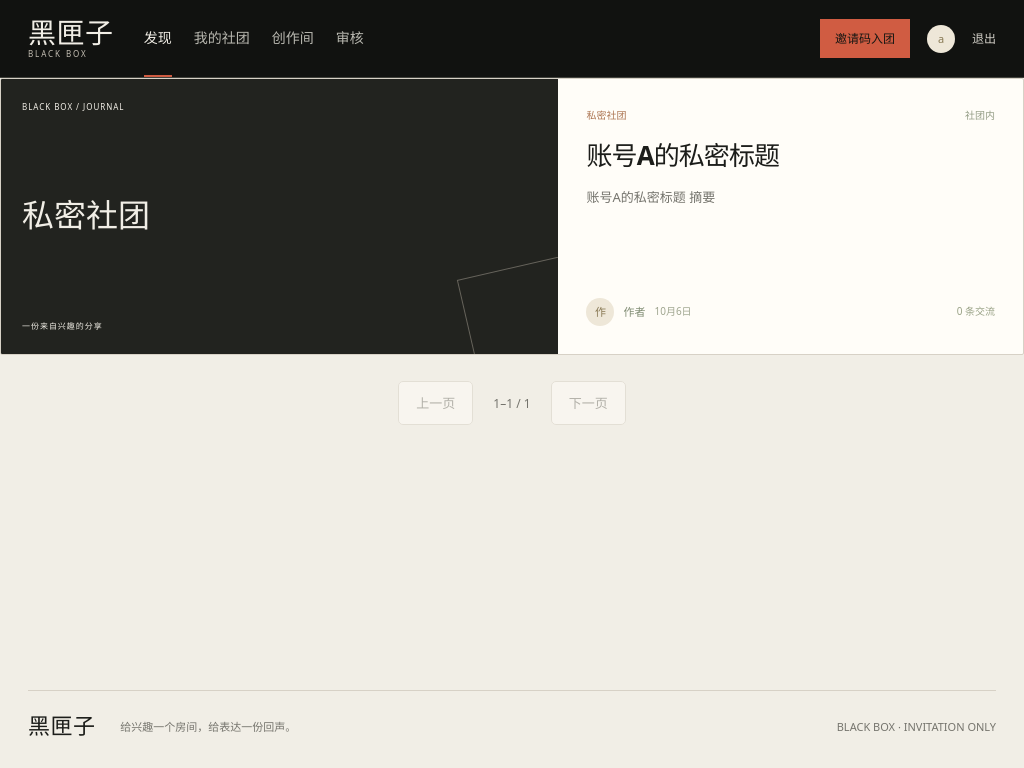
Scenario: logout on the homepage clears previously authorized titles and fetches an anonymous feed
Click the button "退出": (984, 38) top-left (972, 23), bottom-right (996, 54)
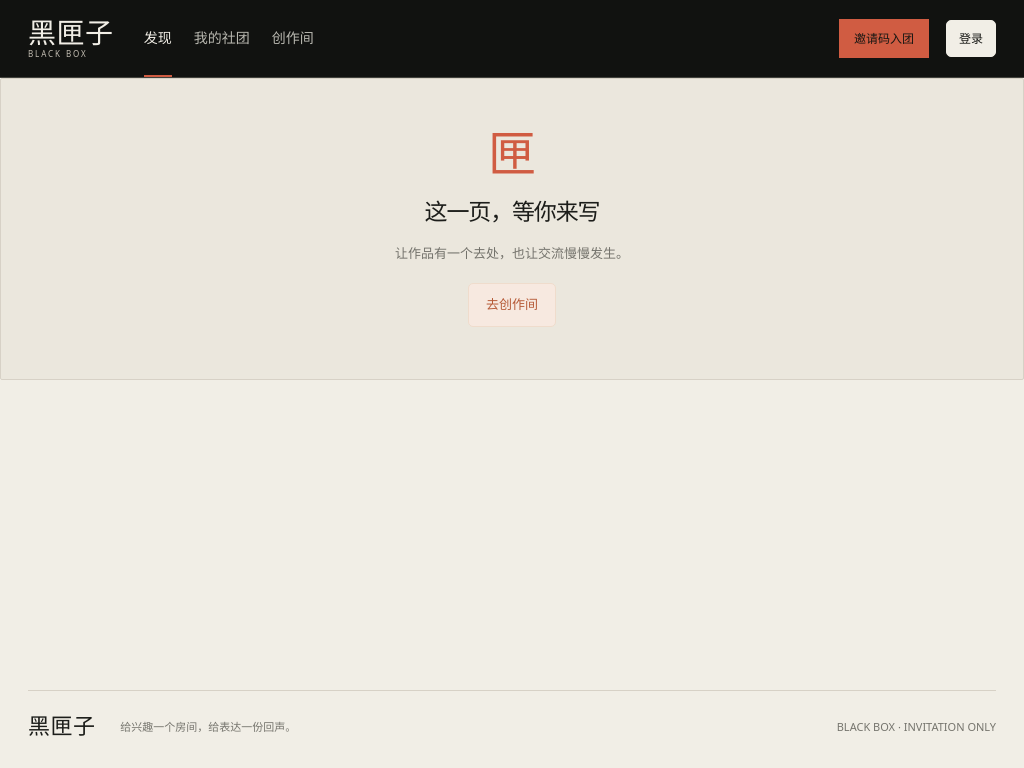
Now the text "账号A的私密标题" is gone
Now the text "账号A的私密标题 摘要" is gone
